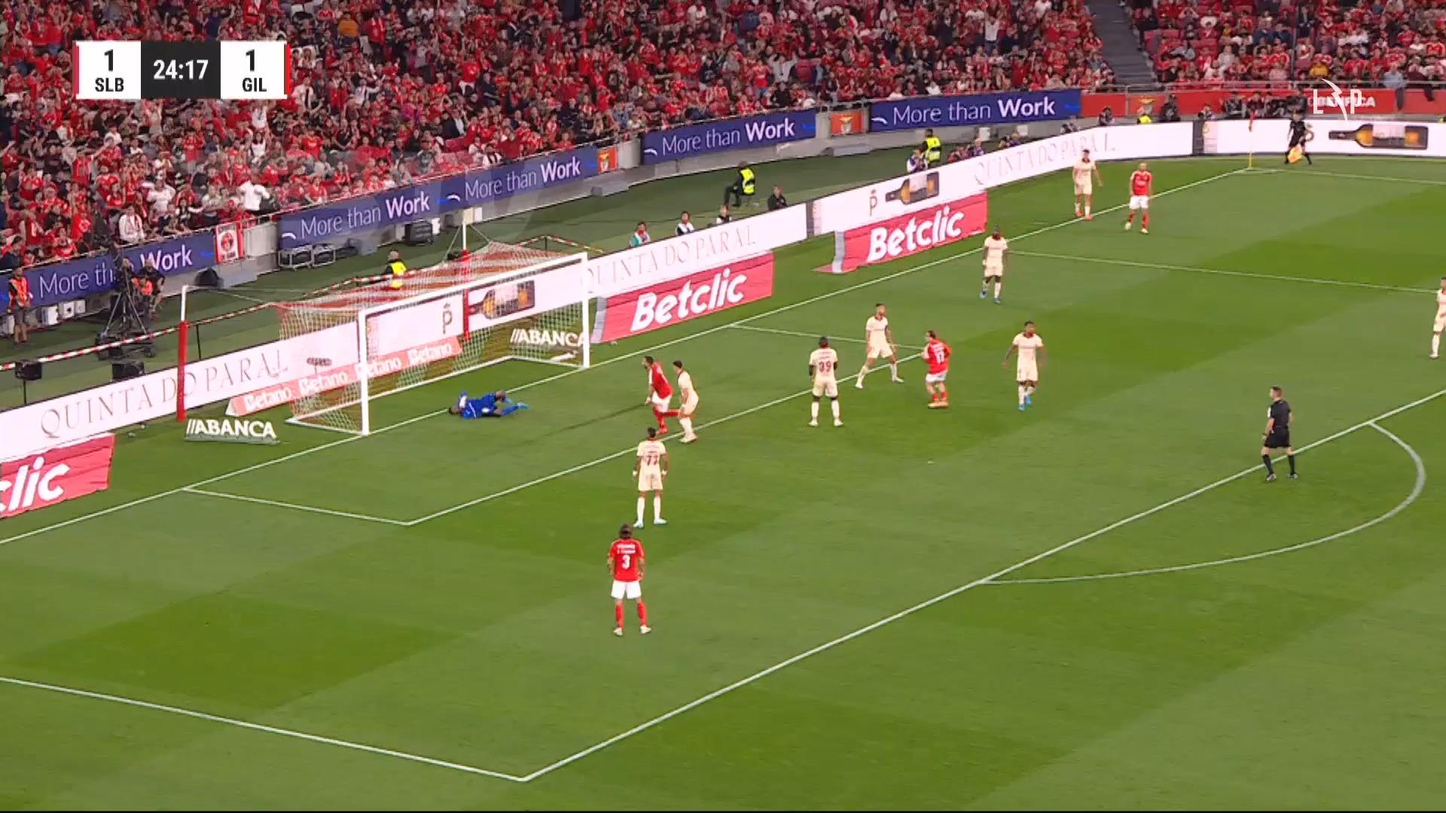ball: (337, 18, 359, 38)
goalkeeper: (447, 388, 529, 419)
player: (606, 523, 651, 636), (853, 303, 905, 389), (630, 426, 670, 528), (1002, 320, 1045, 411), (807, 335, 844, 427), (641, 355, 673, 435), (920, 328, 951, 408), (671, 359, 699, 443), (1071, 148, 1103, 221), (978, 226, 1008, 303), (1123, 160, 1152, 233), (1428, 276, 1445, 358)
referee: (1259, 385, 1298, 482), (1283, 105, 1313, 165)
